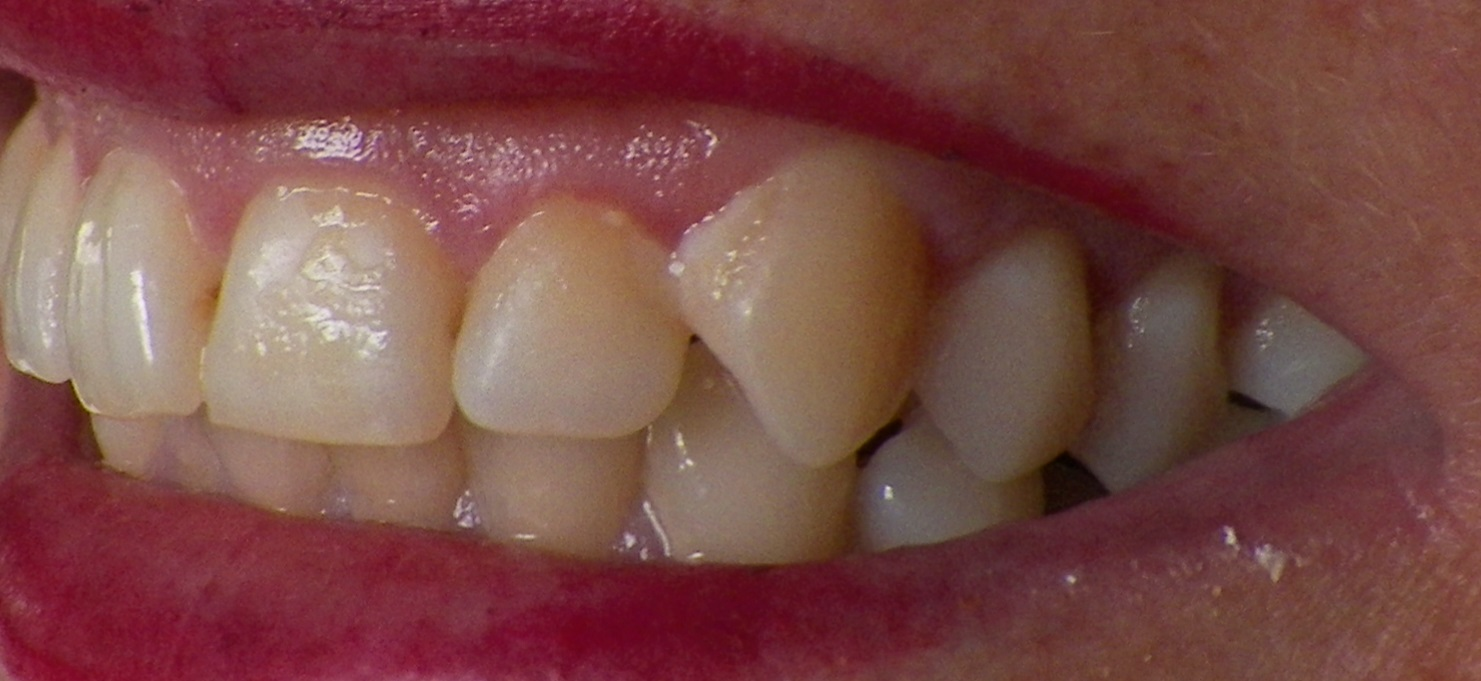boca: (1, 124, 1348, 563)
